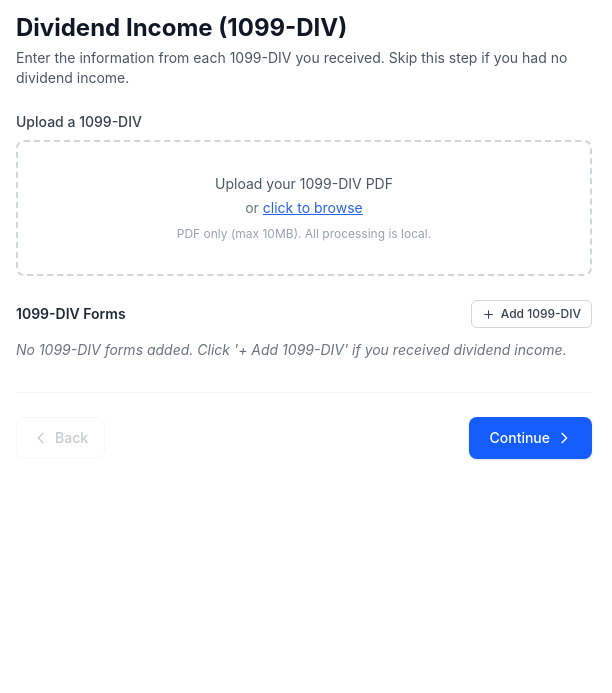
Scenario: DividendIncomePage › adds a 1099-DIV when clicking add
Click the button "Add 1099-DIV". click: coordinates (531, 314)
box: [471,300,592,328]
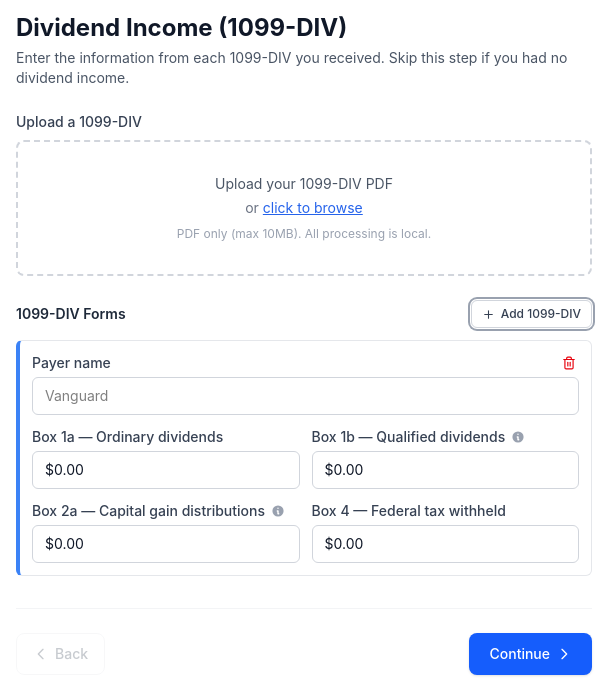
expect the field with placeholder "Vanguard" is shown: met, box [32,377,579,415]
